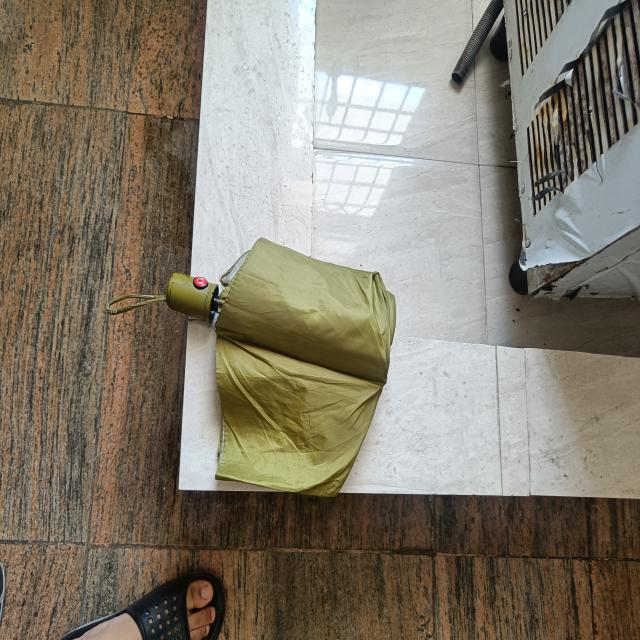umbrella: (168, 235, 412, 505)
